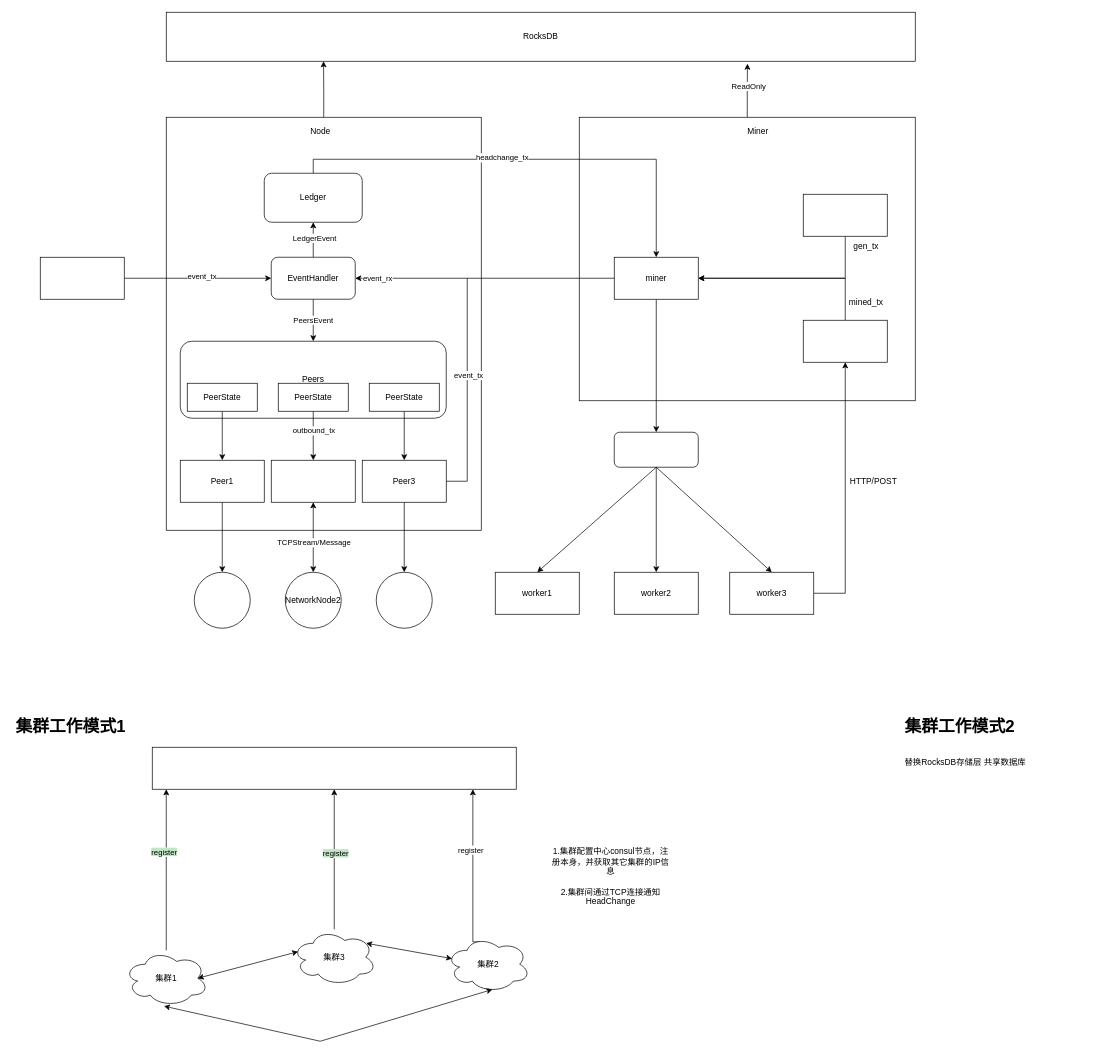
The diagram is 1109 pixels wide and 1060 high, and some of its shapes have lost their labels. Here are the shapes that lost their labels. From the top down, the centre of each, then its label:
At (845,215): "coinbase_gen".
At (82,278): "SocketListener".
At (845,341): "collector".
At (656,449): "Redis".
At (313,481): "Peer2".
At (222,600): "NetworkNode1".
At (404,600): "NetworkNode3".
At (334,768): "Consul 服务注册和发现".
